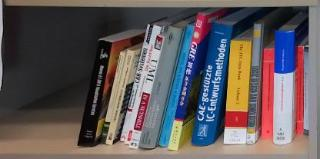book-spine: (138, 24, 184, 152), (190, 22, 235, 149), (168, 12, 206, 153), (121, 25, 162, 146), (158, 23, 195, 149), (117, 24, 154, 143), (128, 35, 165, 151), (77, 39, 112, 149), (105, 49, 136, 146), (223, 41, 251, 145), (272, 30, 295, 146), (99, 51, 127, 144), (246, 24, 262, 146), (261, 50, 275, 140), (296, 46, 305, 134), (303, 48, 309, 135)
